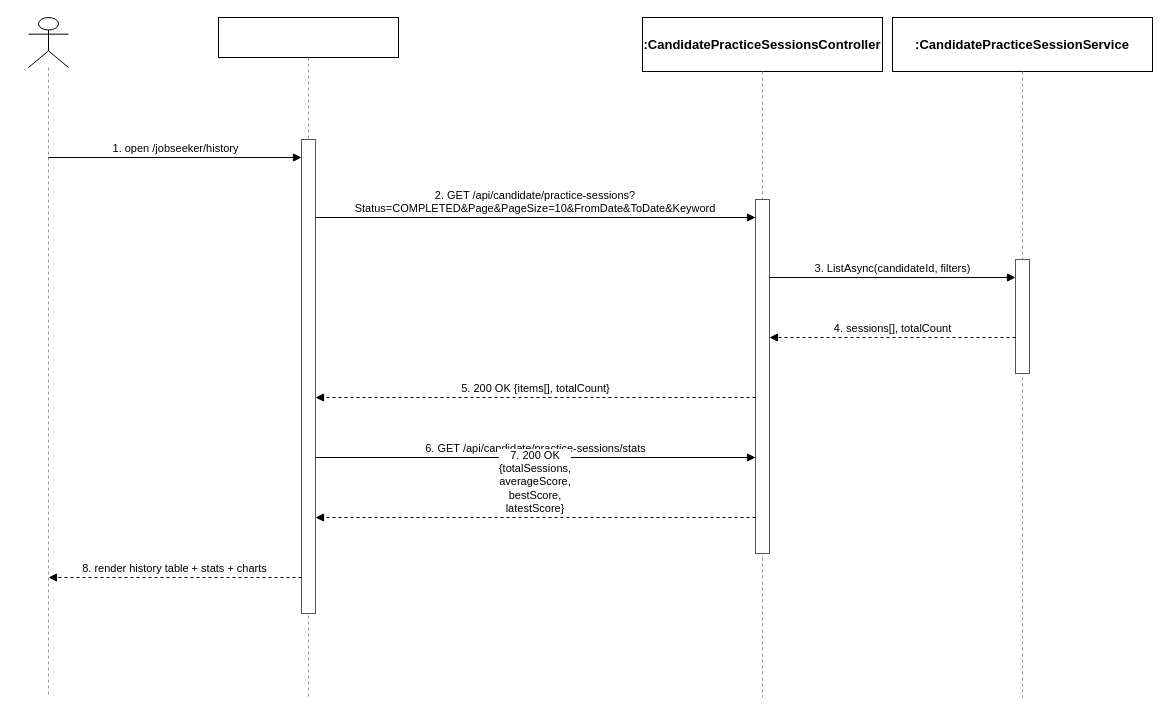
This 1170x716 diagram has some shape labels left out. Here are the shapes that lost their labels. From the top down, the box of each, then its label:
(28, 16, 68, 68): Candidate
(218, 16, 398, 58): :HistoryBoard
